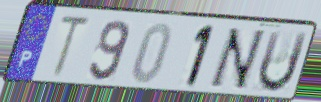0: (129, 21, 176, 87)
1: (185, 24, 218, 91)
9: (87, 18, 130, 83)
N: (204, 27, 269, 93)
T: (49, 14, 95, 82)
U: (255, 29, 310, 96)
